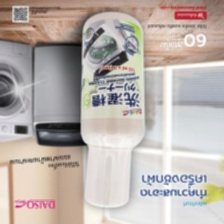cleaning_solution: (77, 8, 149, 211)
